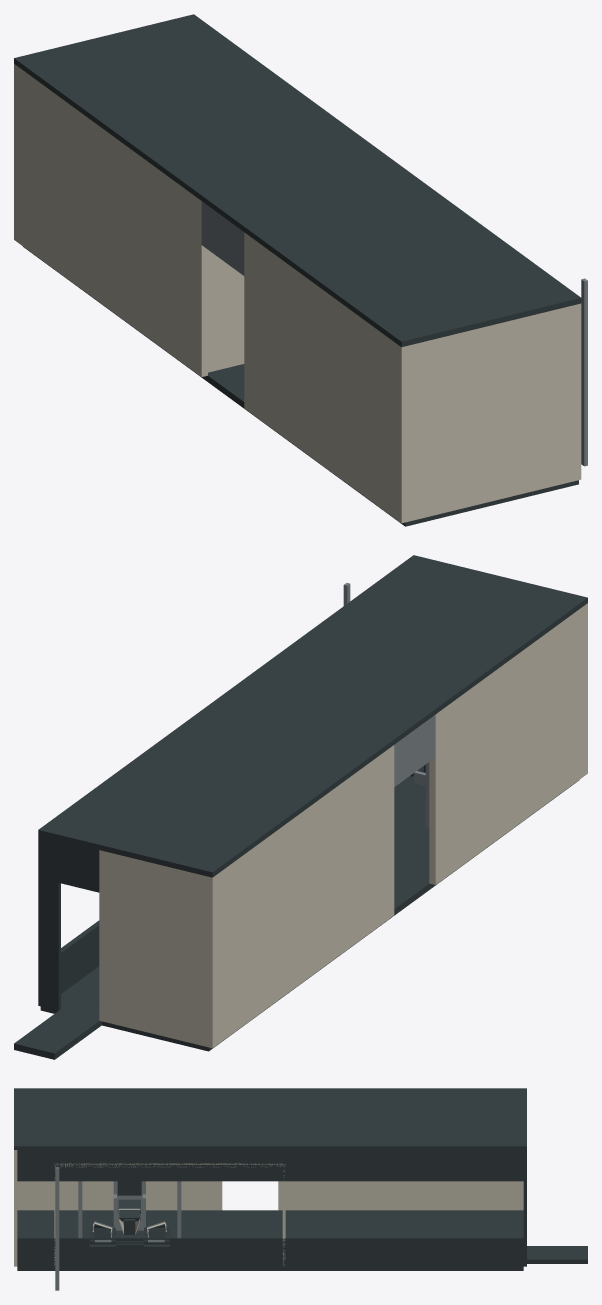
Rendered from forward-bay-proof.glb.
3 views of the same model, one above another, from view 1: azimuth 30°, elevation 25°; view 2: azimuth 150°, elevation 25°; view 3: azimuth 270°, elevation 25° (orthographic). The views are drawn at different scales.
Visible parts, largest first — view 1: reference.canonical.0, reference.canonical.1, candidate/port-aft-wall, reference.canonical.2, cockpit/aft-crosswalk; view 2: reference.canonical.0, reference.canonical.1, cockpit/aft-crosswalk, cockpit/port-walkway, reference.canonical.2; view 3: reference.canonical.1, reference.canonical.0, cockpit/aft-crosswalk, cockpit/seat-floor, reference.canonical.2, cockpit/port-walkway, reference.chair.2, reference.chair.1, candidate/overhead, candidate/port-forward-wall.
Part boxes in pixels (<box>): reference.canonical.0: <box>14,64,581,523</box>; reference.canonical.1: <box>14,14,581,347</box>; candidate/port-aft-wall: <box>208,250,244,372</box>; reference.canonical.2: <box>201,201,587,466</box>; cockpit/aft-crosswalk: <box>23,246,568,526</box>; reference.canonical.0: <box>99,603,587,1048</box>; reference.canonical.1: <box>38,555,587,1010</box>; cockpit/aft-crosswalk: <box>51,776,579,1051</box>; cockpit/port-walkway: <box>14,1009,101,1059</box>; reference.canonical.2: <box>343,583,435,786</box>; reference.canonical.1: <box>14,1088,526,1268</box>; reference.canonical.0: <box>14,1150,523,1266</box>; cockpit/aft-crosswalk: <box>17,1210,523,1236</box>; cockpit/seat-floor: <box>17,1266,523,1270</box>; reference.canonical.2: <box>55,1167,181,1290</box>; cockpit/port-walkway: <box>527,1246,587,1263</box>; reference.chair.2: <box>113,1181,145,1230</box>; reference.chair.1: <box>117,1181,141,1213</box>; candidate/overhead: <box>54,1163,285,1167</box>; candidate/port-forward-wall: <box>282,1169,285,1265</box>.
Bounding box in the file's own units: 4.14 × 3.63 × 14.28.
